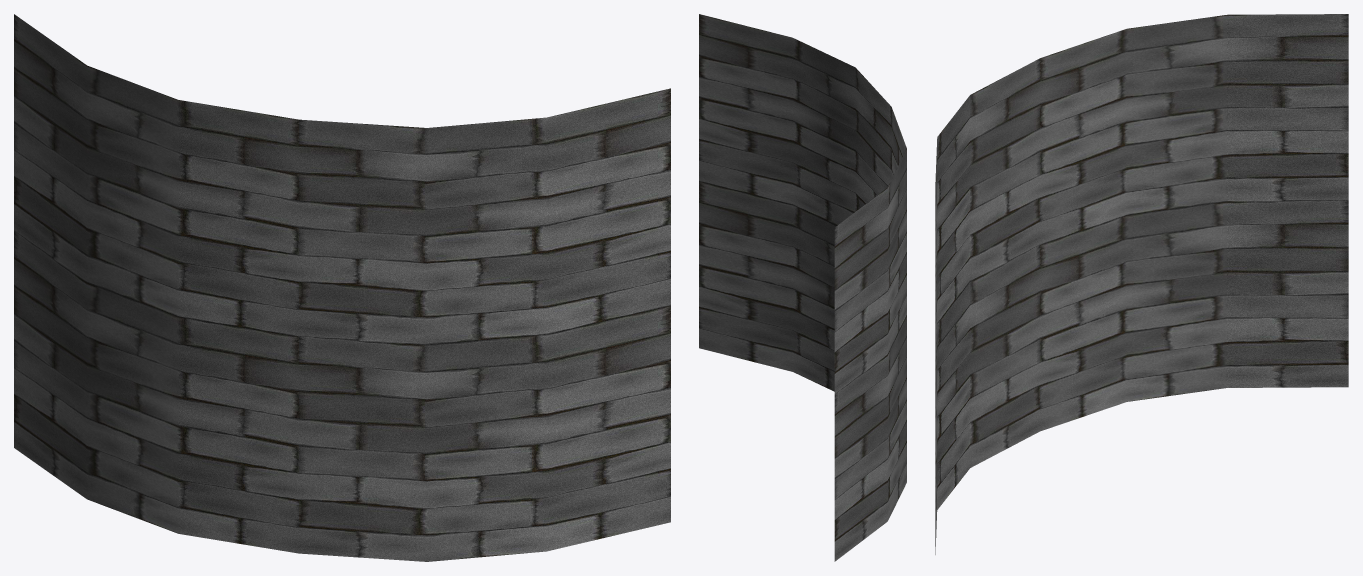
File: Castle_Mod_TowerStem.fbx
3 views of the same model, side by side, from view 1: azimuth 30°, elevation 25°; view 2: azimuth 150°, elevation 25°; view 3: azimuth 270°, elevation 25° (orthographic). The views are drawn at different scales.
Visible parts, largest first — view 1: Castle_Mod_TowerStem; view 2: Castle_Mod_TowerStem; view 3: Castle_Mod_TowerStem.
Part boxes in pixels (x1,y1,x2,y2): Castle_Mod_TowerStem: (14, 14, 670, 561); Castle_Mod_TowerStem: (699, 14, 906, 561); Castle_Mod_TowerStem: (935, 14, 1348, 554).
Size of the model in its own units: 5.27 by 5.25 by 5.27.
Materials: 1 (1 with a texture image).
